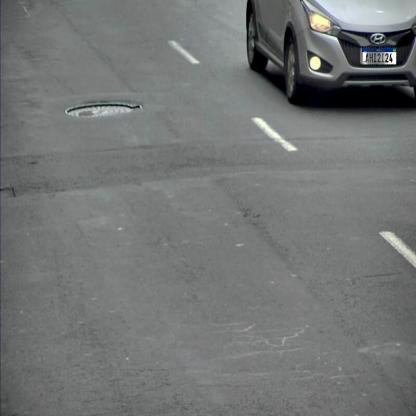PlacaM: (362, 47, 397, 65)
